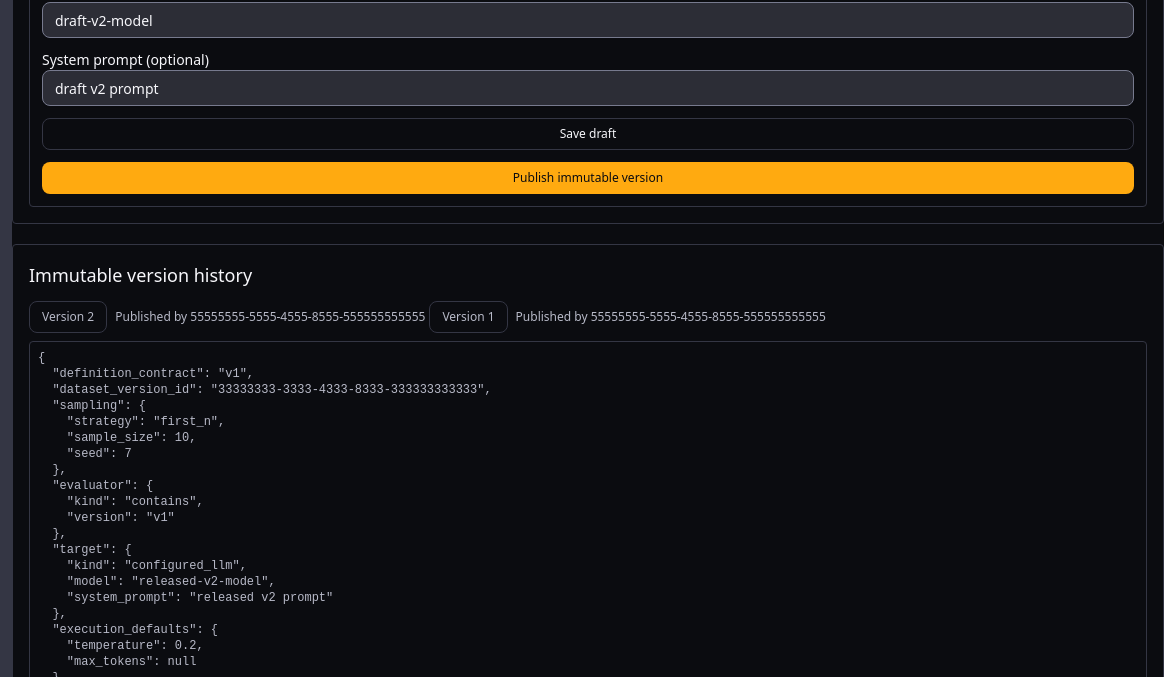
EvaluationDefinitionDetailPage › renders a selected historical version from its immutable payload, not the current draft
(page scrolled)
What coordinates should you click on to do the following:
click the button "Version 1"
I would click on:
 (468, 317)
Its box is [429,301,508,333].
(page scrolled)
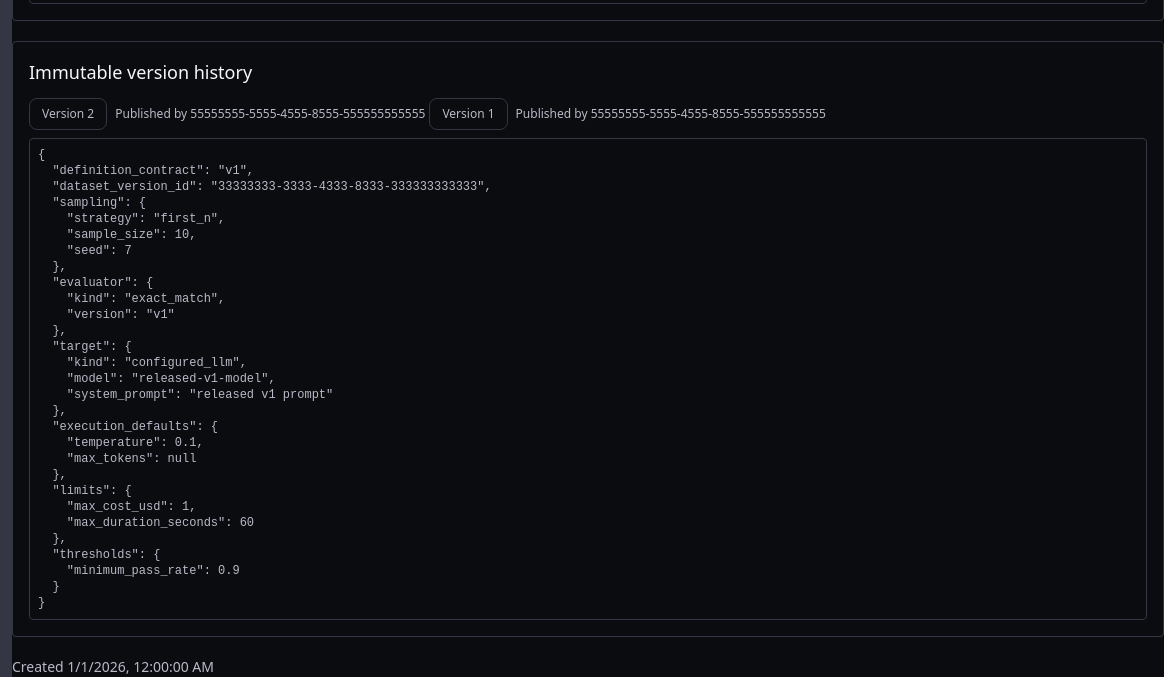
expect the text "draft v2 prompt" is not shown: met
expect the text "released v1 prompt" is shown: met, box [38,148,492,610]
